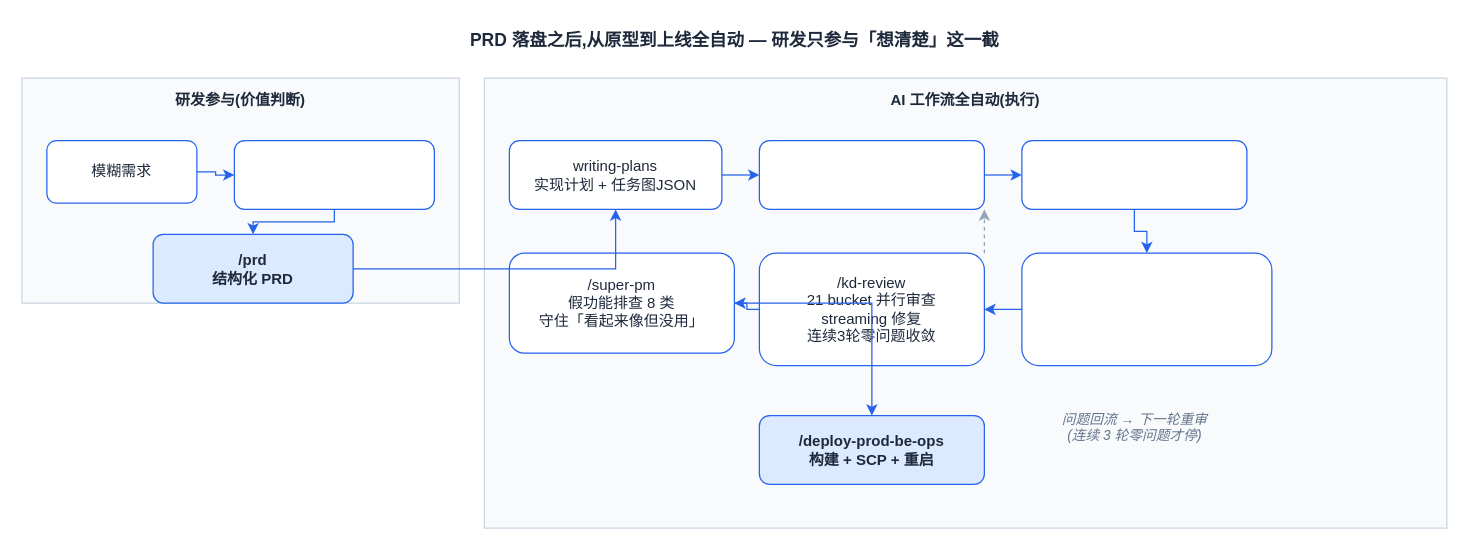
This 1469x550 diagram has some shape labels left out. Here are the shapes that lost their labels. From the top down, the box of each, then its label:
(233, 139, 434, 209): /10-bs 十轮头脑风暴
(758, 139, 984, 209): executing-plans 多 subagent 并行 + TDD
(1021, 139, 1247, 209): verification 单测+集成测+覆盖率门禁
(1021, 252, 1272, 366): 测试门禁 契约检查 · 端点冒烟 · P0 E2E 任一层失败阻断提交
